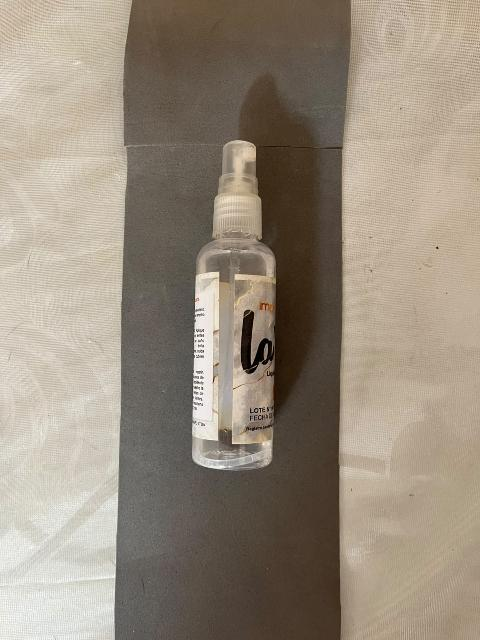PET: (156, 101, 313, 504)
